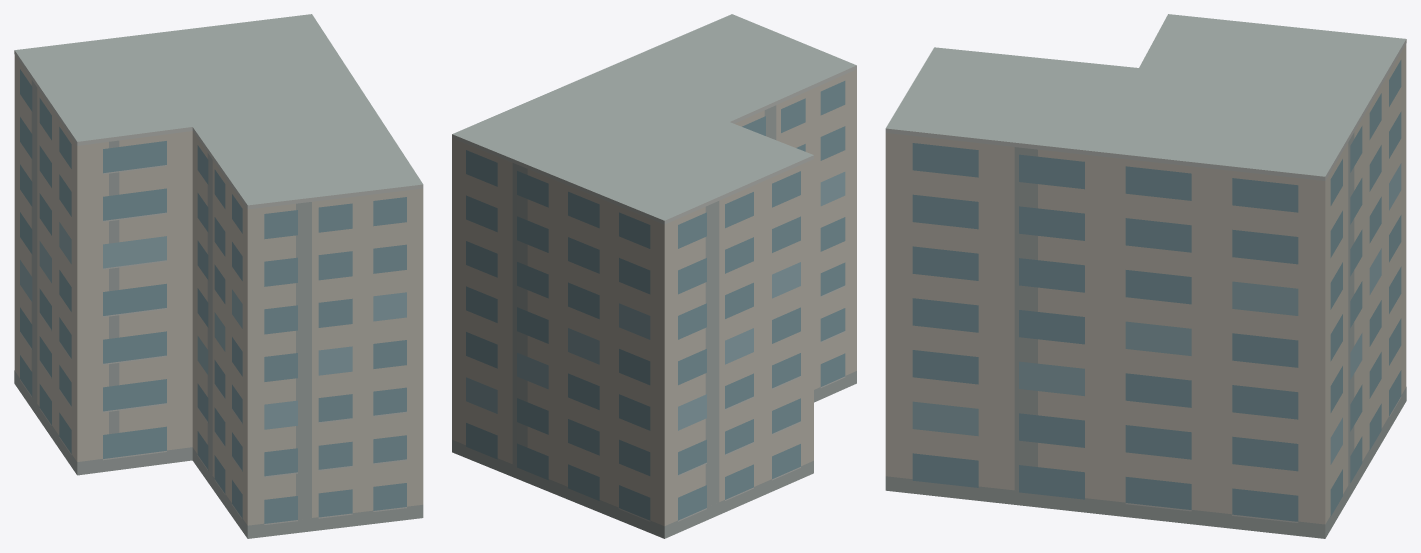
The model's file is survey-upis-32871702.glb.
The picture shows the model from 3 angles, left to right: view 1: azimuth 30°, elevation 25°; view 2: azimuth 150°, elevation 25°; view 3: azimuth 270°, elevation 25°; orthographic projection. The views are drawn at different scales.
Visible parts, largest first — view 1: survey-upis-32871702.tmp; view 2: survey-upis-32871702.tmp; view 3: survey-upis-32871702.tmp.
Part boxes in pixels (<box>): survey-upis-32871702.tmp: <box>14,14,423,538</box>; survey-upis-32871702.tmp: <box>452,14,856,538</box>; survey-upis-32871702.tmp: <box>885,14,1406,538</box>.
Size of the model in its own units: 19.33 by 20.05 by 26.14.
